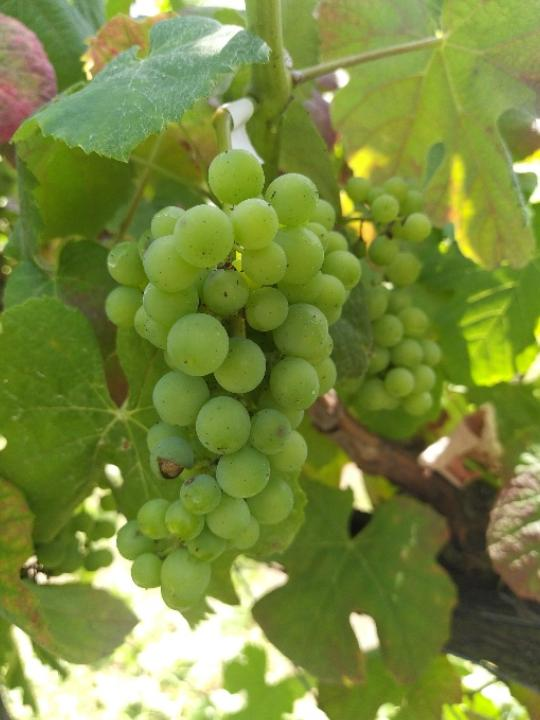grape: (99, 144, 362, 620)
